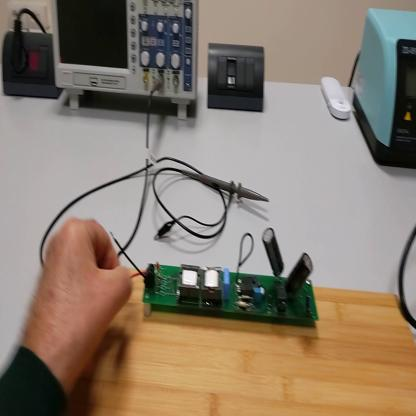hand: (31, 217, 134, 397)
high voltage board: (114, 227, 320, 330)
oscilloscope: (51, 2, 201, 123)
oscilloscope probe tip: (182, 167, 269, 203)
socket: (1, 32, 64, 102)
welder station: (353, 7, 416, 167)
working area: (75, 268, 416, 416)
